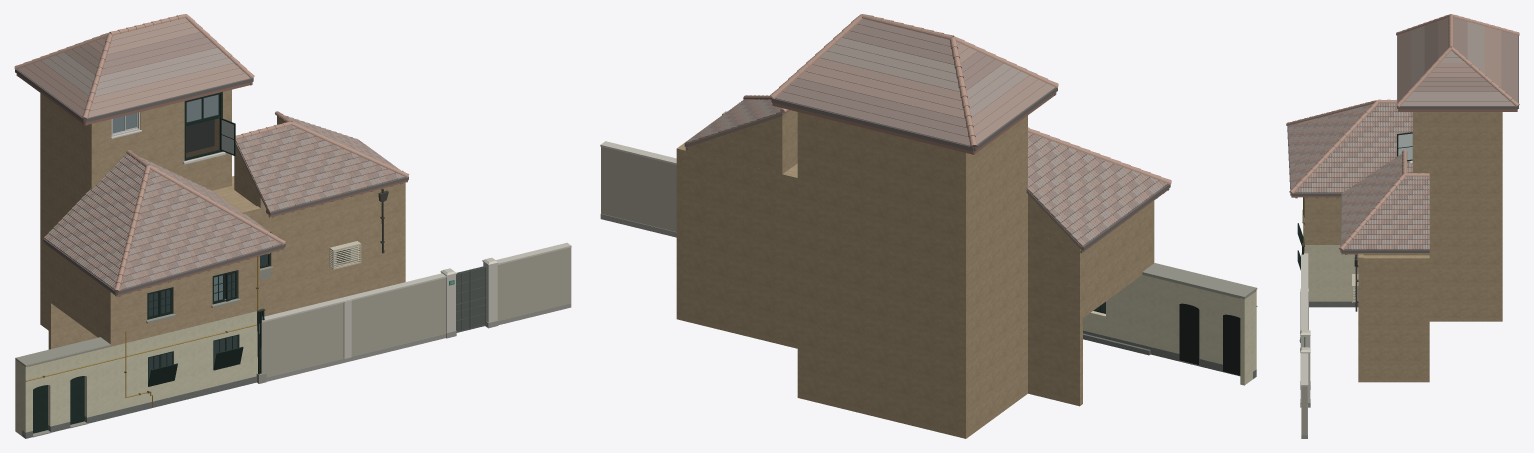
File: full-source.glb
3 views of the same model, side by side, from view 1: azimuth 30°, elevation 25°; view 2: azimuth 150°, elevation 25°; view 3: azimuth 270°, elevation 25° (orthographic). The views are drawn at different scales.
Visible parts, largest first — view 1: 长乐坊337号院门与相邻临街窗墙; view 2: 长乐坊337号院门与相邻临街窗墙; view 3: 长乐坊337号院门与相邻临街窗墙.
Part boxes in pixels (bbox=[...]): 长乐坊337号院门与相邻临街窗墙: bbox=[14, 14, 571, 438]; 长乐坊337号院门与相邻临街窗墙: bbox=[600, 14, 1257, 438]; 长乐坊337号院门与相邻临街窗墙: bbox=[1286, 14, 1519, 438].
Bounding box in the file's own units: 22.43 × 11.98 × 9.56.
29 materials, 4 textured.
